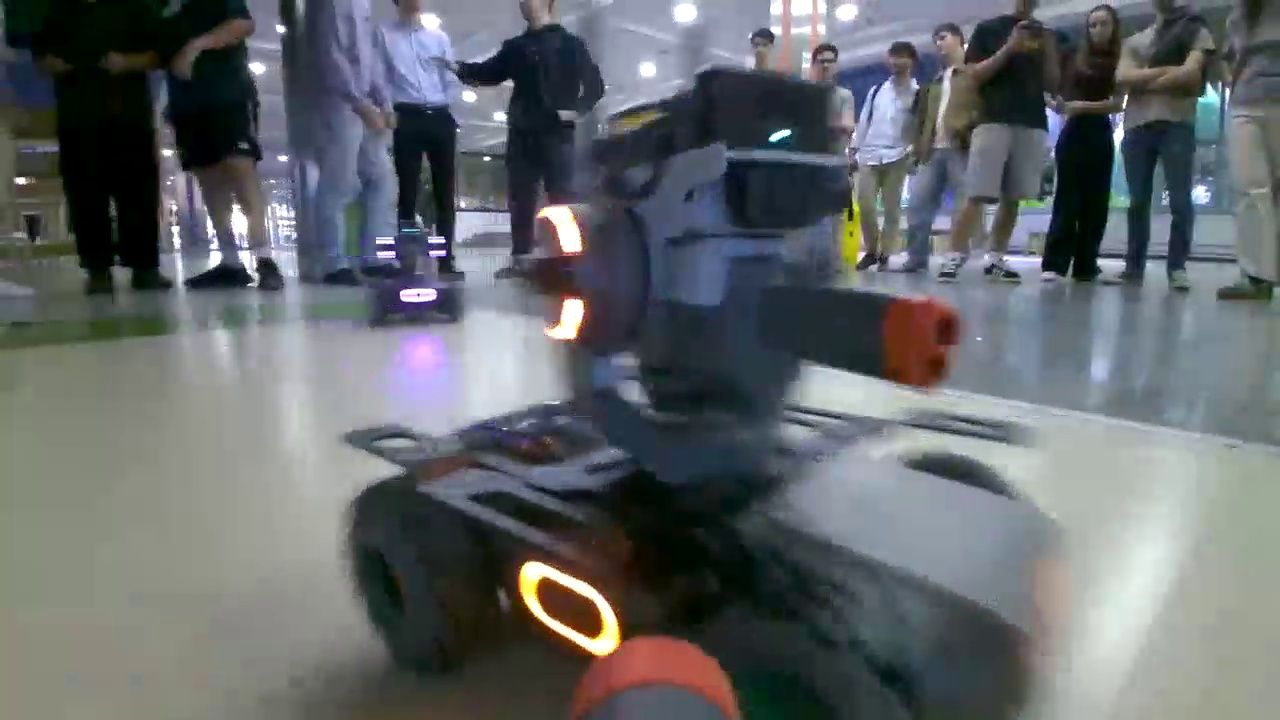robot: (335, 88, 1065, 720), (357, 228, 461, 326)
